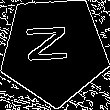N_E: (29, 29, 80, 71)
